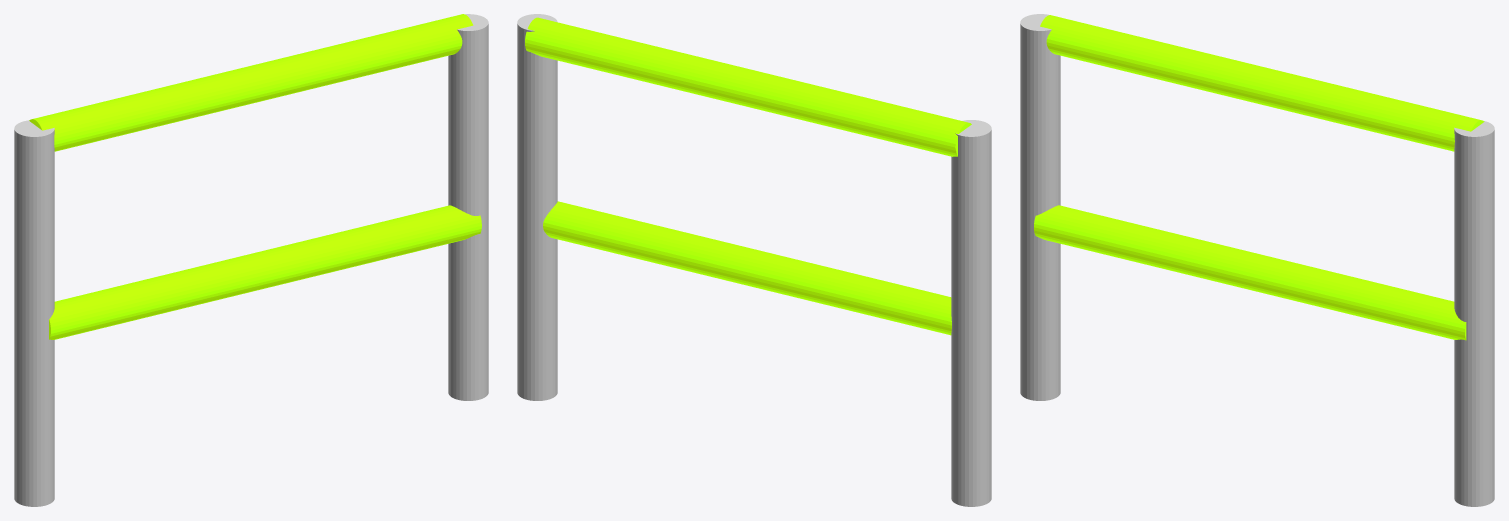
File: railing.fbx
The picture shows the model from 3 angles, left to right: view 1: azimuth 30°, elevation 25°; view 2: azimuth 150°, elevation 25°; view 3: azimuth 330°, elevation 25°; orthographic projection.
Parts seen in each view (by area): view 1: Cylinder.004, Cylinder.005, Cylinder, Cylinder.002; view 2: Cylinder.005, Cylinder.004, Cylinder, Cylinder.002; view 3: Cylinder.004, Cylinder.005, Cylinder.002, Cylinder.
Boxes of the visible parts, x1,y1,x2,y2 form: Cylinder.004: (49,205,481,339); Cylinder.005: (29,14,473,151); Cylinder: (14,120,54,506); Cylinder.002: (448,14,488,400); Cylinder.005: (525,17,971,156); Cylinder.004: (543,201,951,335); Cylinder: (951,120,991,506); Cylinder.002: (517,14,557,400); Cylinder.004: (1034,205,1466,340); Cylinder.005: (1040,15,1484,151); Cylinder.002: (1454,121,1494,506); Cylinder: (1020,14,1060,400).
Size of the model in its own units: 216 by 165 by 18.66.
